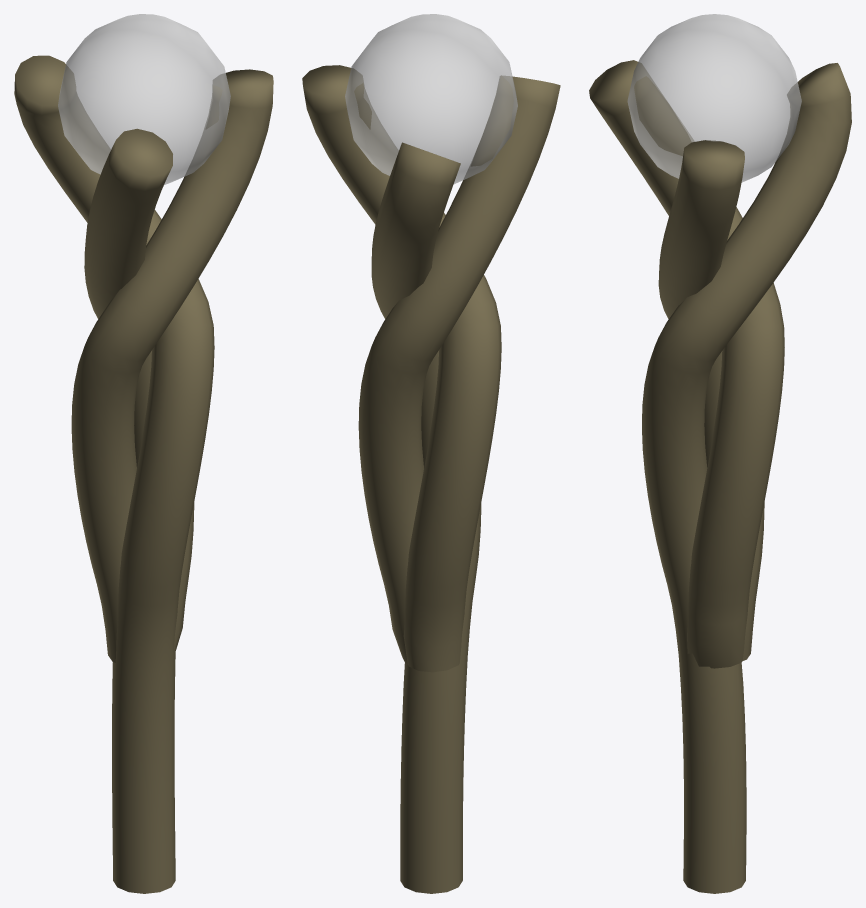
Rendered from wand.fbx.
3 renders of one model, left to right at view 1: azimuth 30°, elevation 25°; view 2: azimuth 150°, elevation 25°; view 3: azimuth 270°, elevation 25°, orthographic.
Visible parts, largest first — view 1: Sphere; view 2: Sphere; view 3: Sphere.
Part boxes in pixels (x1=…): Sphere: x1=14, y1=14, x2=273, y2=893; Sphere: x1=302, y1=14, x2=560, y2=893; Sphere: x1=589, y1=14, x2=851, y2=893.
Bounding box in the file's own units: 372 × 1513 × 420.
